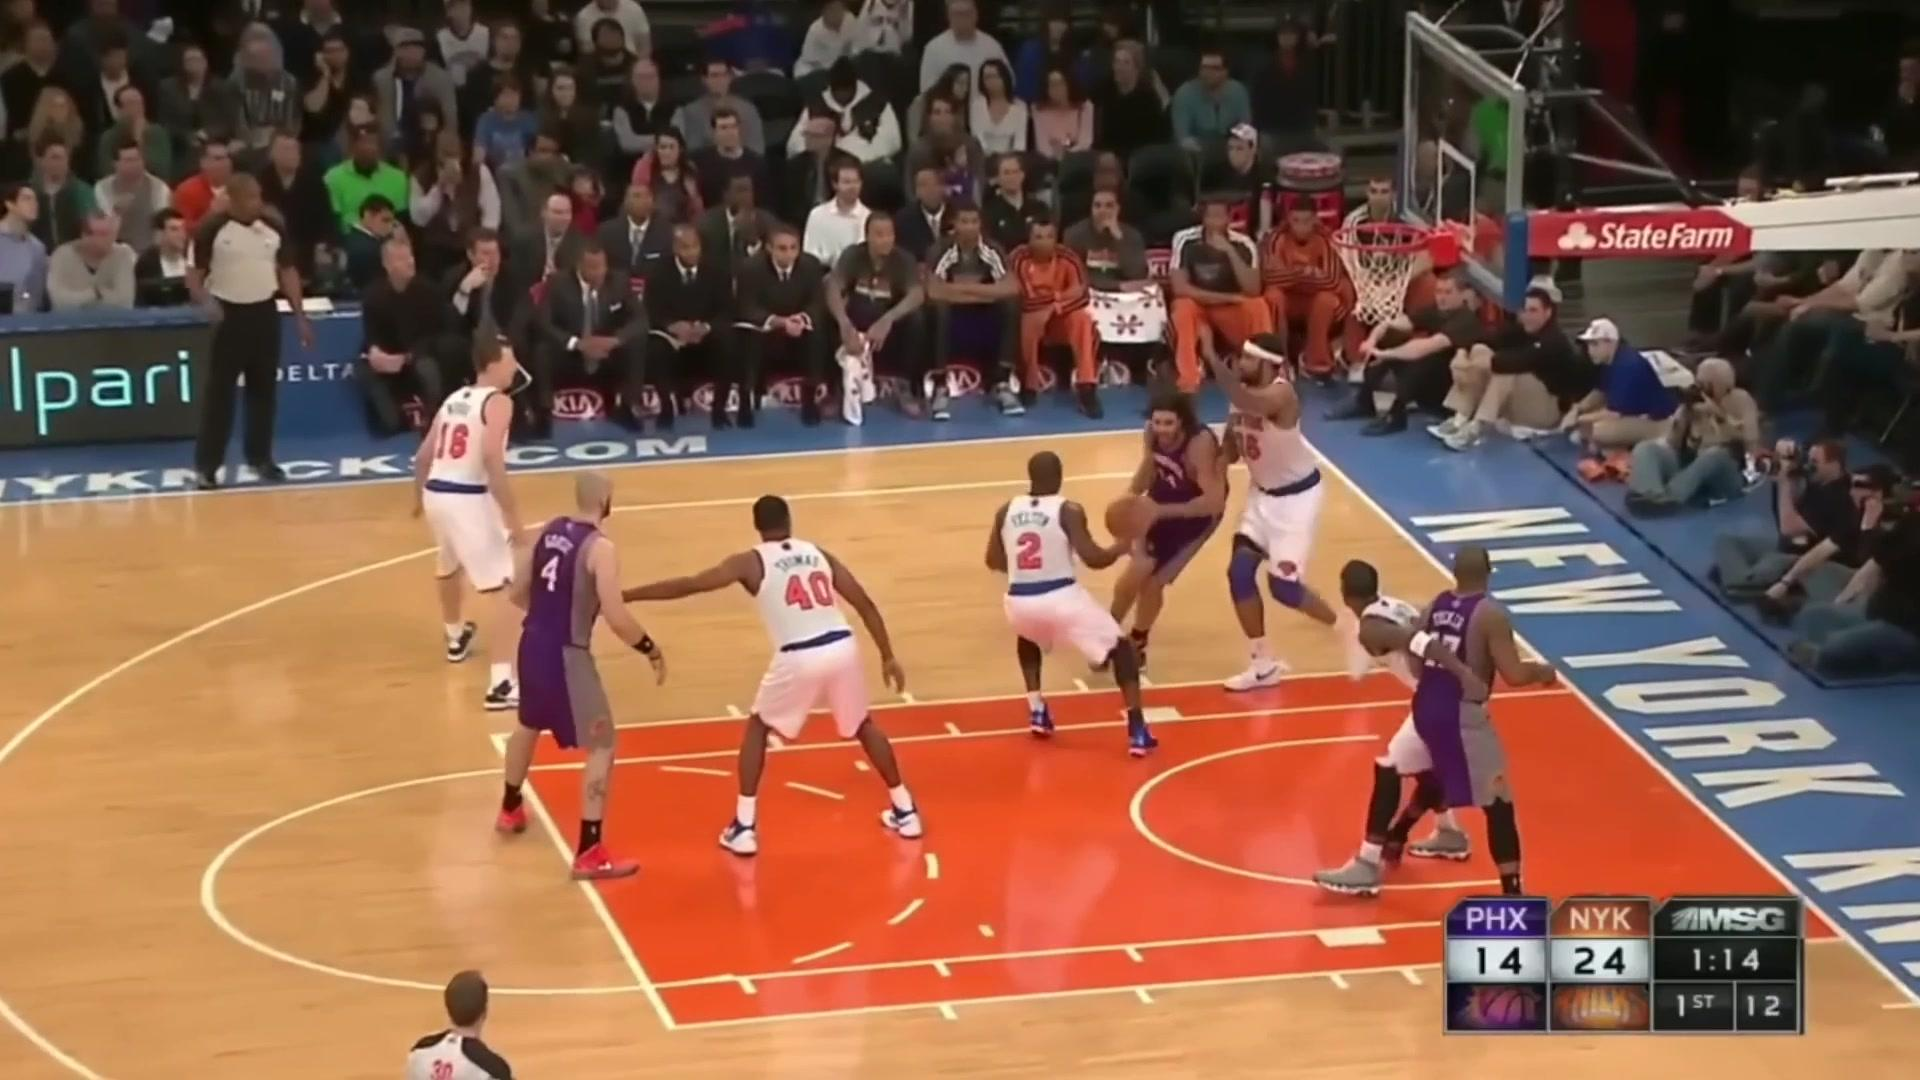no_foul: (1067, 324, 1377, 731)
